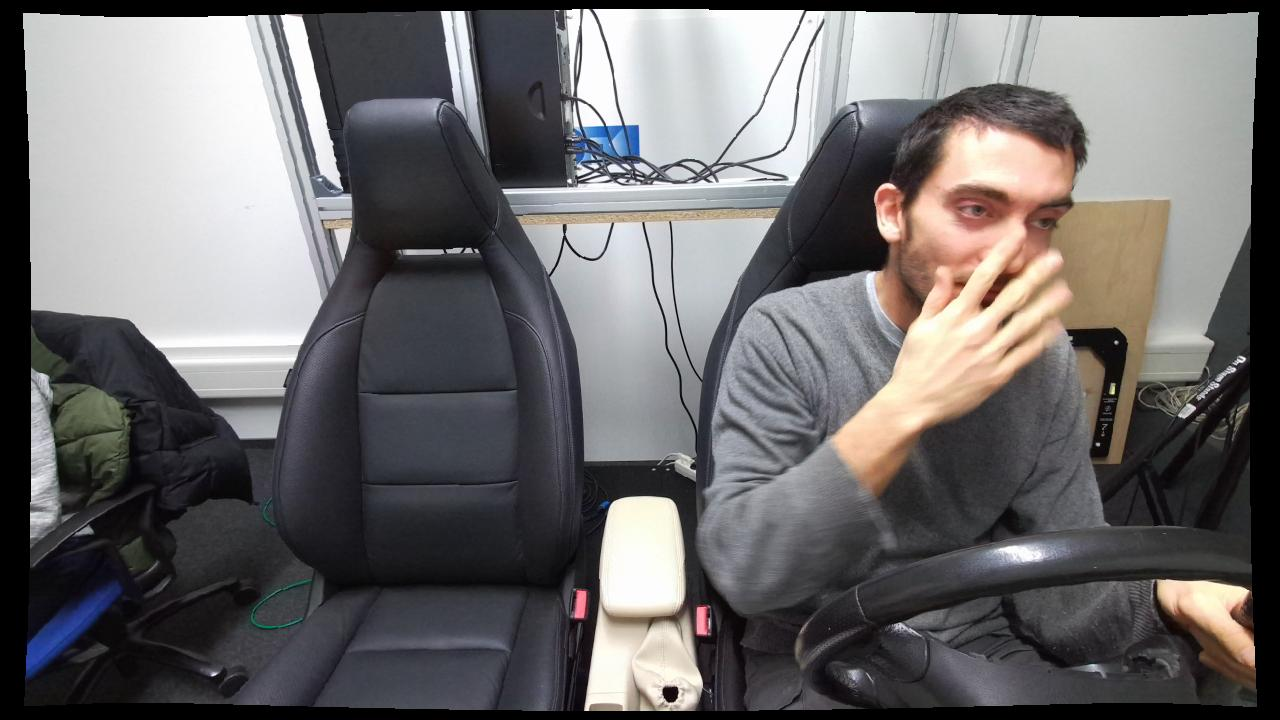Distracted: (695, 86, 1129, 713)
